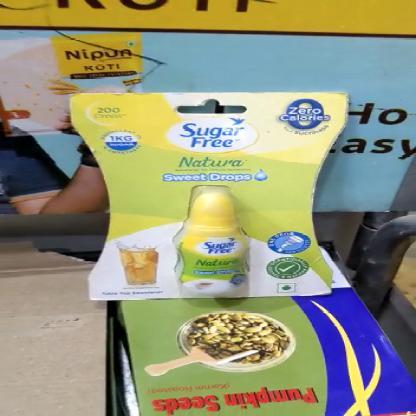SUGAR FREE NATURA SWEET DROPS: (67, 92, 348, 302)
